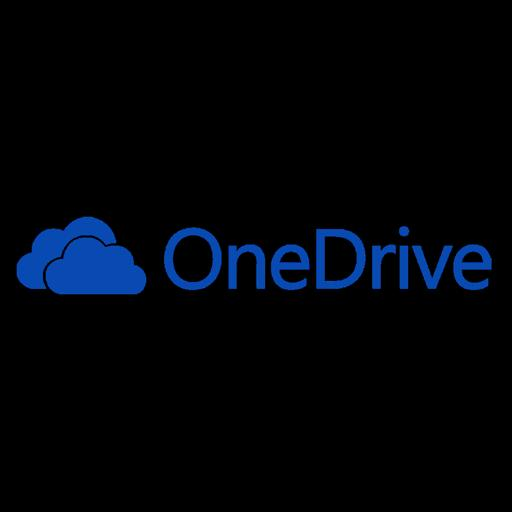Microsoft OneDrive: (0, 214, 512, 297)
